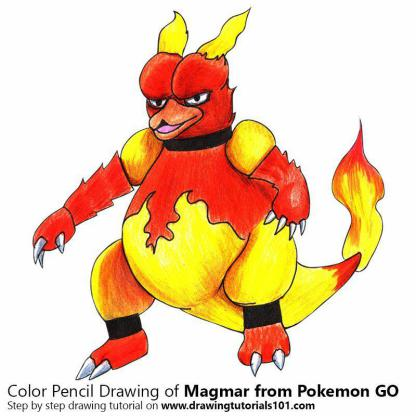Magmar: (1, 37, 415, 416)
